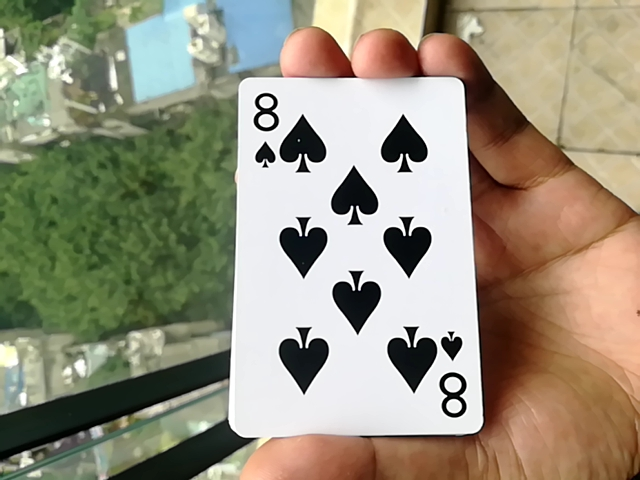ht 8: (226, 62, 469, 448)
